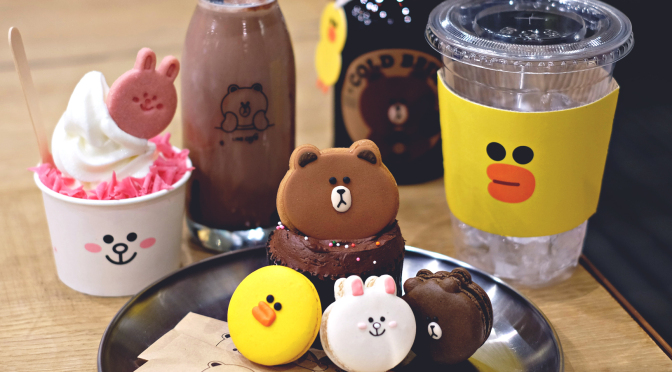line_brown: (275, 138, 404, 245)
